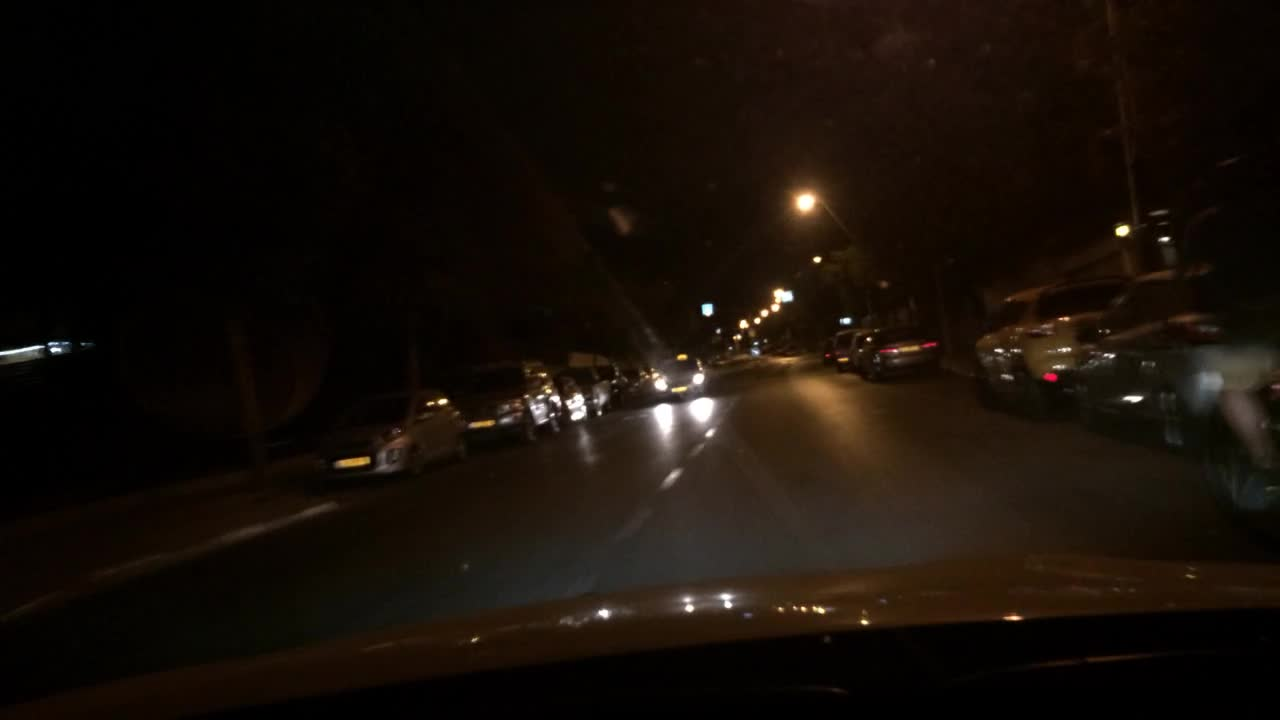car: (1073, 258, 1279, 444), (974, 268, 1124, 414), (315, 386, 462, 483), (1211, 380, 1279, 526), (459, 358, 562, 444), (871, 324, 945, 382), (649, 354, 709, 402), (566, 367, 611, 415), (553, 375, 587, 421), (848, 325, 880, 368), (836, 327, 860, 369), (598, 364, 626, 391), (626, 368, 649, 395), (750, 335, 771, 352), (823, 335, 833, 363)
traffic sign: (702, 302, 712, 317)
